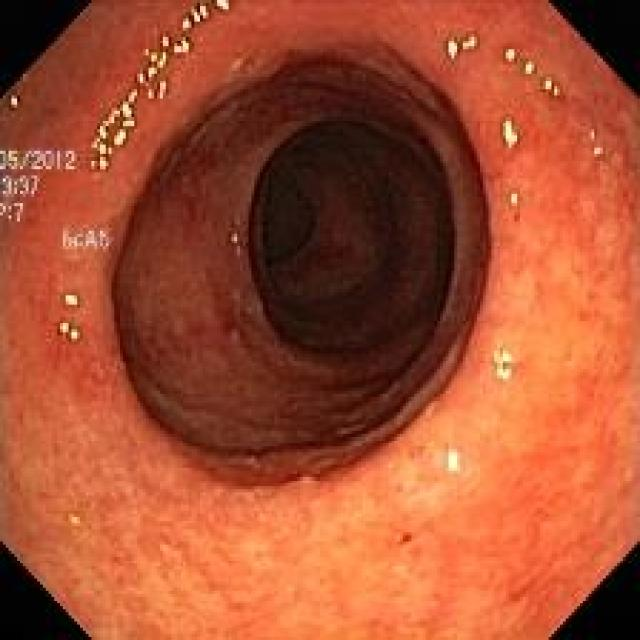ulcerative-colitis-grade-1: (4, 8, 639, 637)
